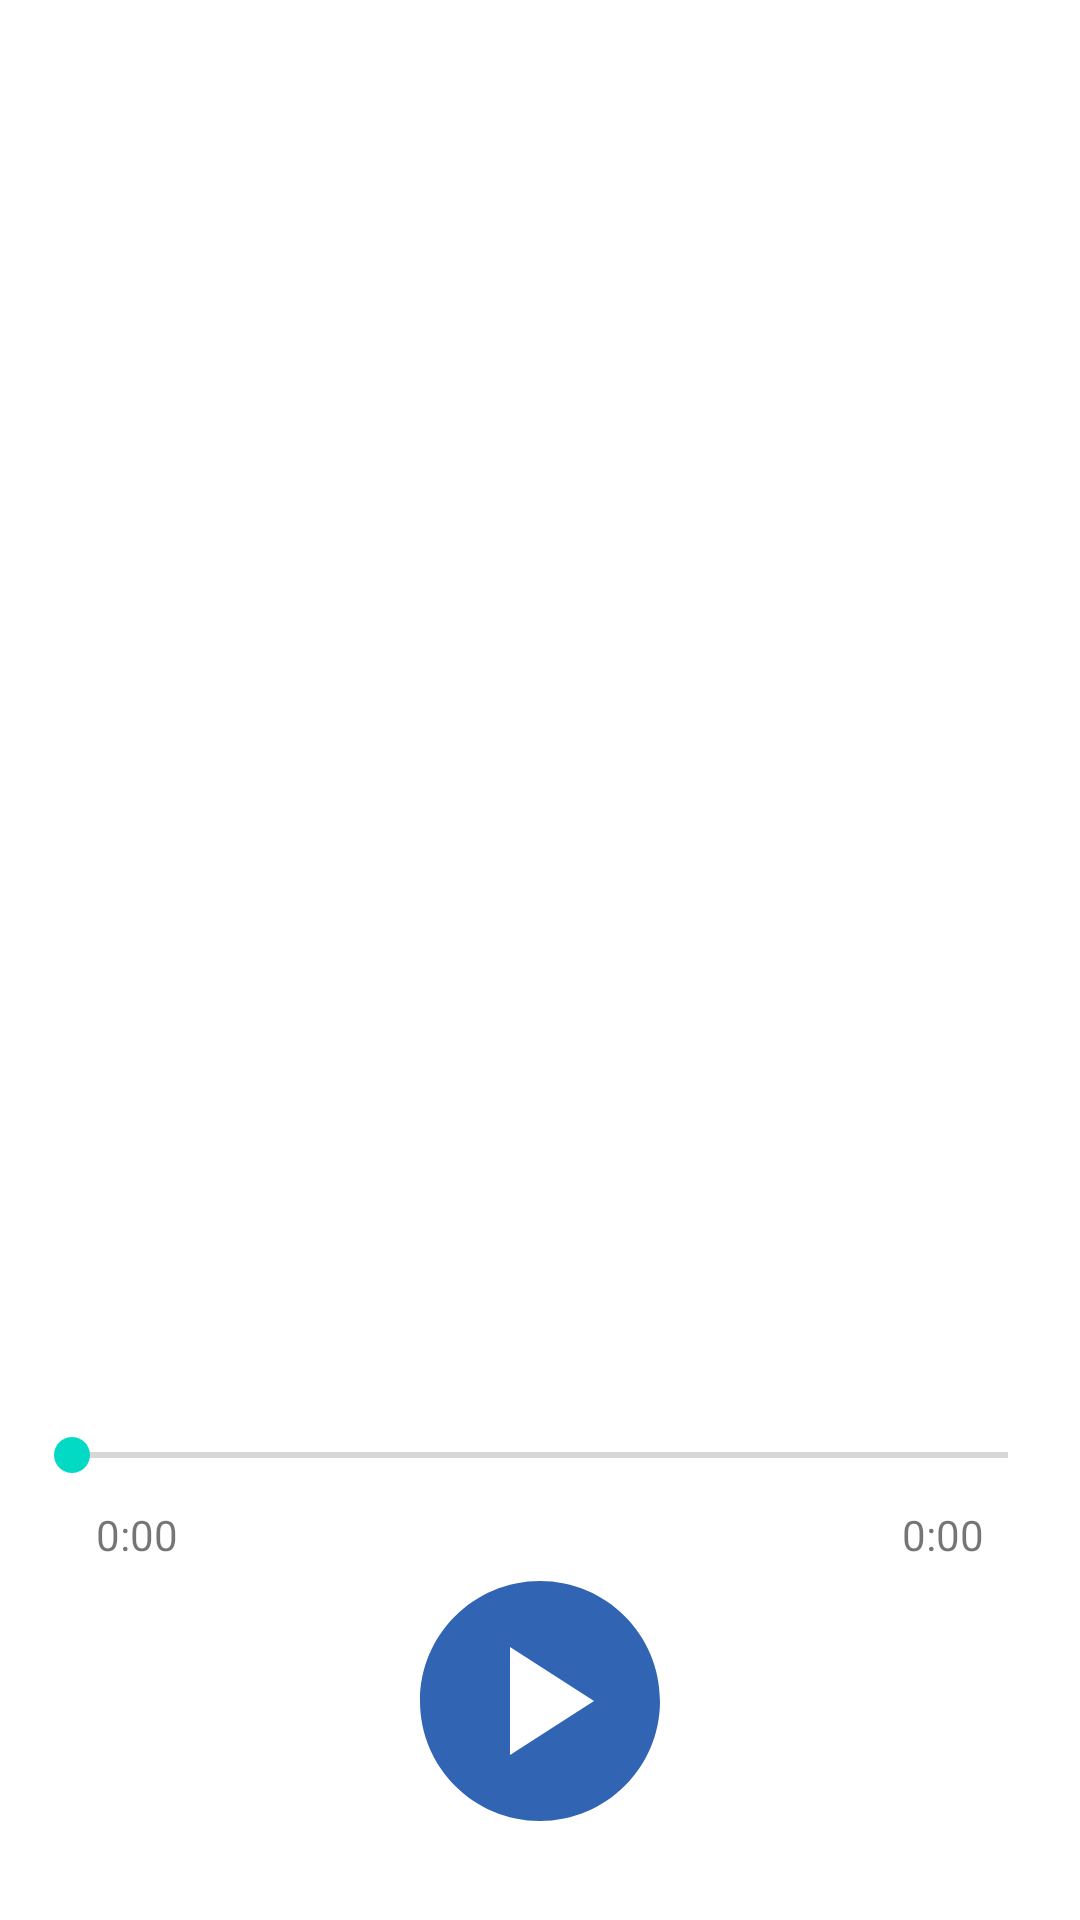

Icons on this 1080w x 1920h Android screen, each with the point to tap as point (x, y):
Player: point (540, 1701)
